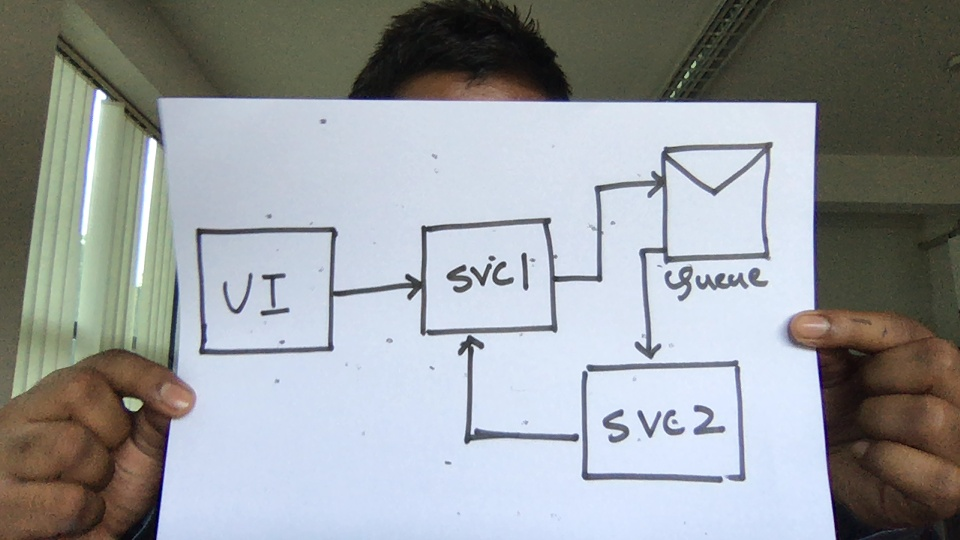ec2: (575, 358, 756, 487), (413, 214, 563, 344)
sns: (655, 139, 784, 290)
ui: (192, 220, 342, 363)
